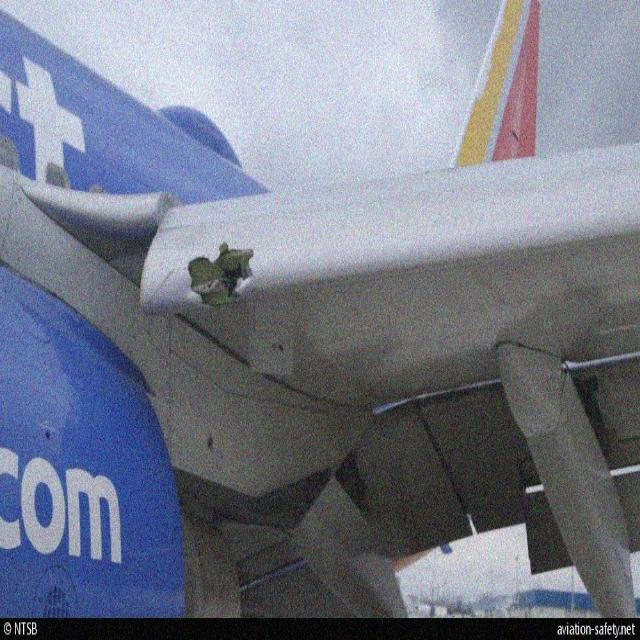crack: (187, 246, 259, 311)
